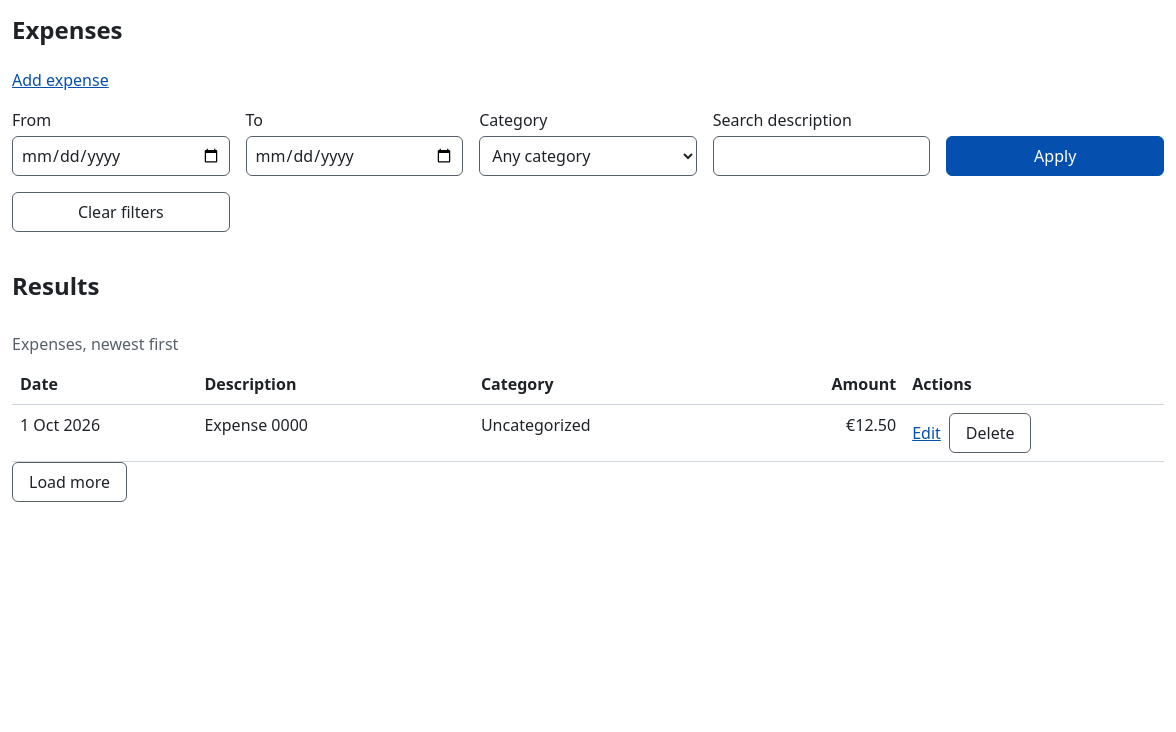
ExpensesView: empty and failed states › shows the failure of a Load more without losing the rows
The image size is (1176, 732).
What coordinates should you click on to do the following:
click the button "Load more"
I would click on:
 (70, 482)
Its box is left=12, top=462, right=127, bottom=502.
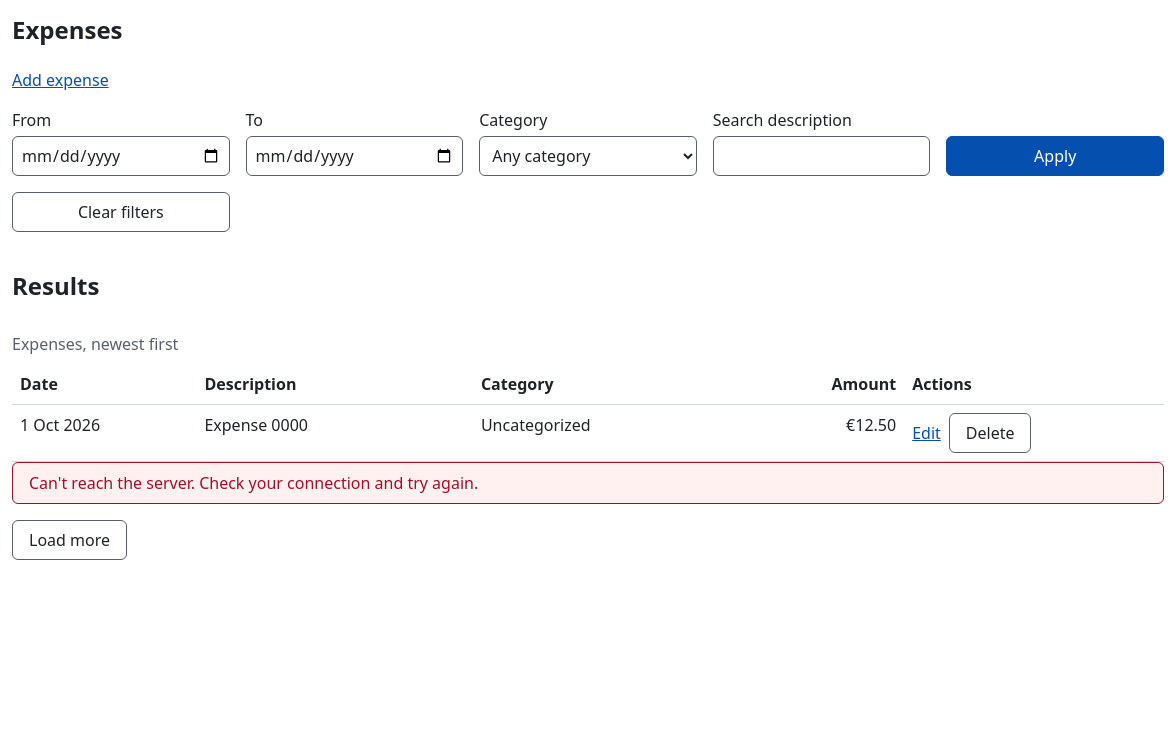
Expected: the message "Can't reach the server. Check your connection and try again." is shown, left=12, top=462, right=1164, bottom=504
